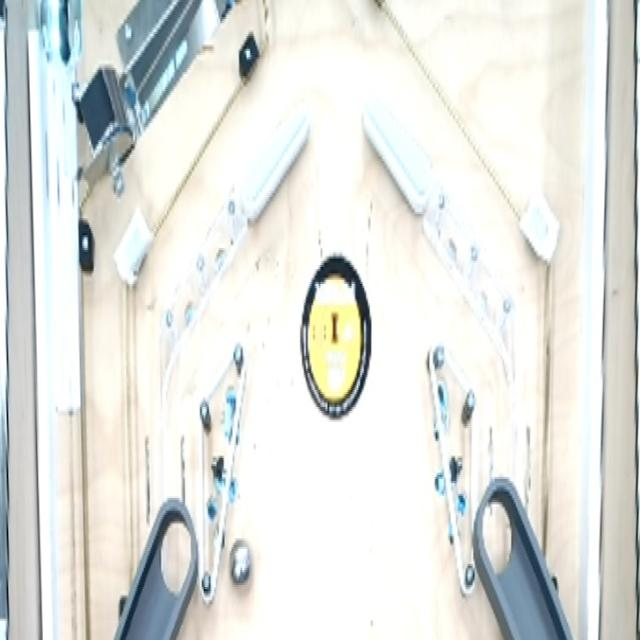ball: (225, 535, 256, 597)
flipper-left: (359, 96, 436, 223)
flipper-right: (240, 108, 314, 232)
